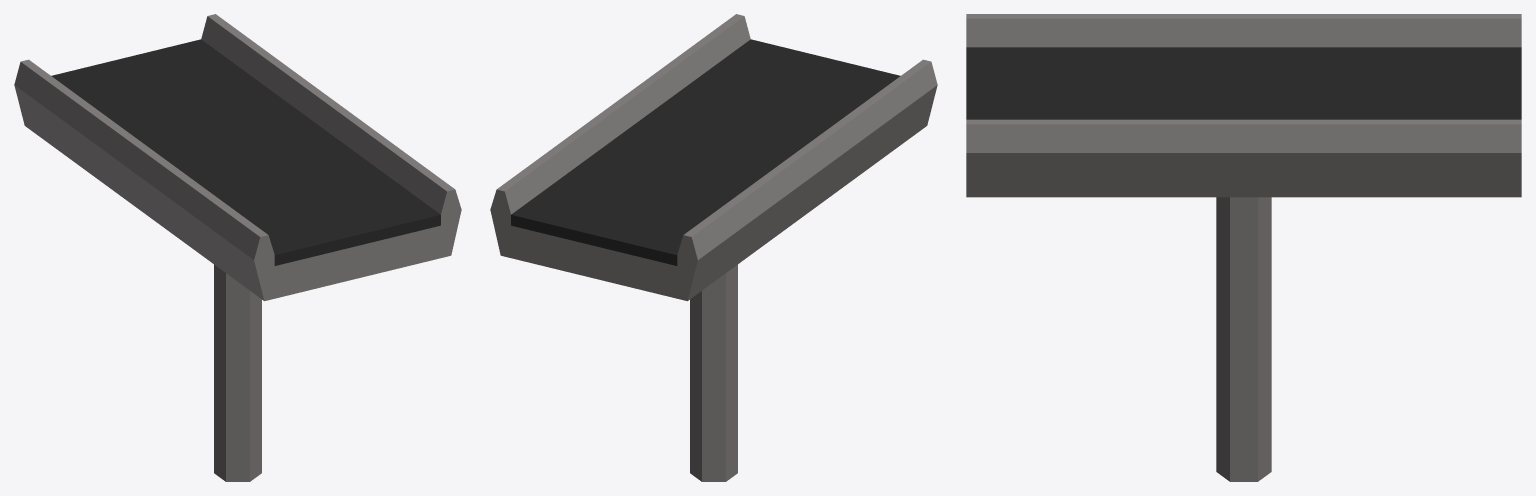
File: belt-moving-straight.glb
The picture shows the model from 3 angles, left to right: view 1: azimuth 30°, elevation 25°; view 2: azimuth 150°, elevation 25°; view 3: azimuth 270°, elevation 25°; orthographic projection. The views are drawn at different scales.
Parts seen in each view (by area): view 1: belt-moving-straight; view 2: belt-moving-straight; view 3: belt-moving-straight.
Part boxes in pixels (left/top/right/bottom): belt-moving-straight: left=14, top=14, right=461, bottom=481; belt-moving-straight: left=490, top=14, right=937, bottom=481; belt-moving-straight: left=966, top=14, right=1521, bottom=481.
Size of the model in its own units: 1 by 1.6 by 2.
1 material, 1 textured.
